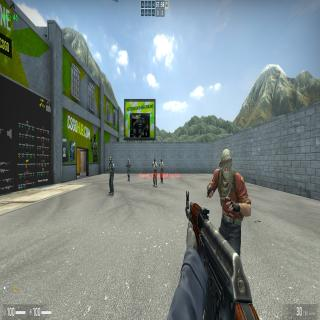CT-Body: (107, 157, 115, 196), (126, 158, 130, 181)
CT-Head: (109, 156, 112, 164), (128, 158, 130, 163)
T-Body: (208, 148, 252, 223), (152, 158, 157, 188), (159, 159, 164, 183)
T-Head: (220, 149, 232, 180), (160, 159, 162, 163), (154, 158, 155, 164)
